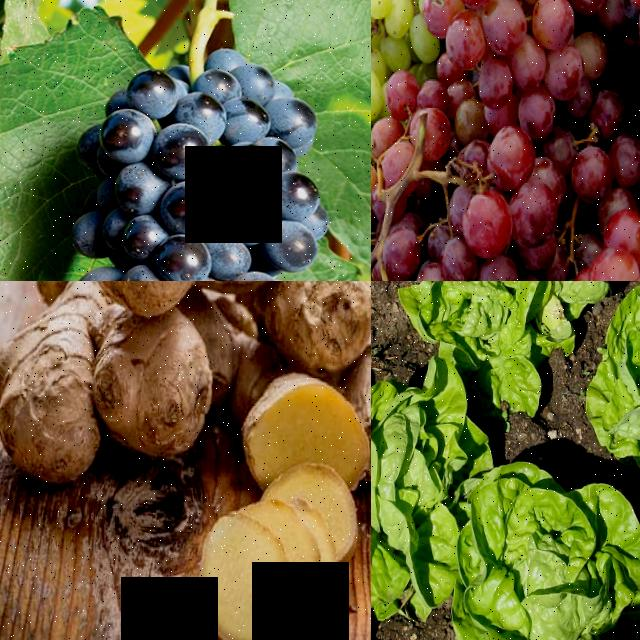ginger: (0, 281, 221, 486)
grapes: (61, 40, 334, 281), (418, 0, 640, 281), (371, 135, 426, 281)
lettuce: (455, 471, 640, 640), (398, 281, 593, 387), (371, 390, 458, 602), (596, 281, 640, 466)
